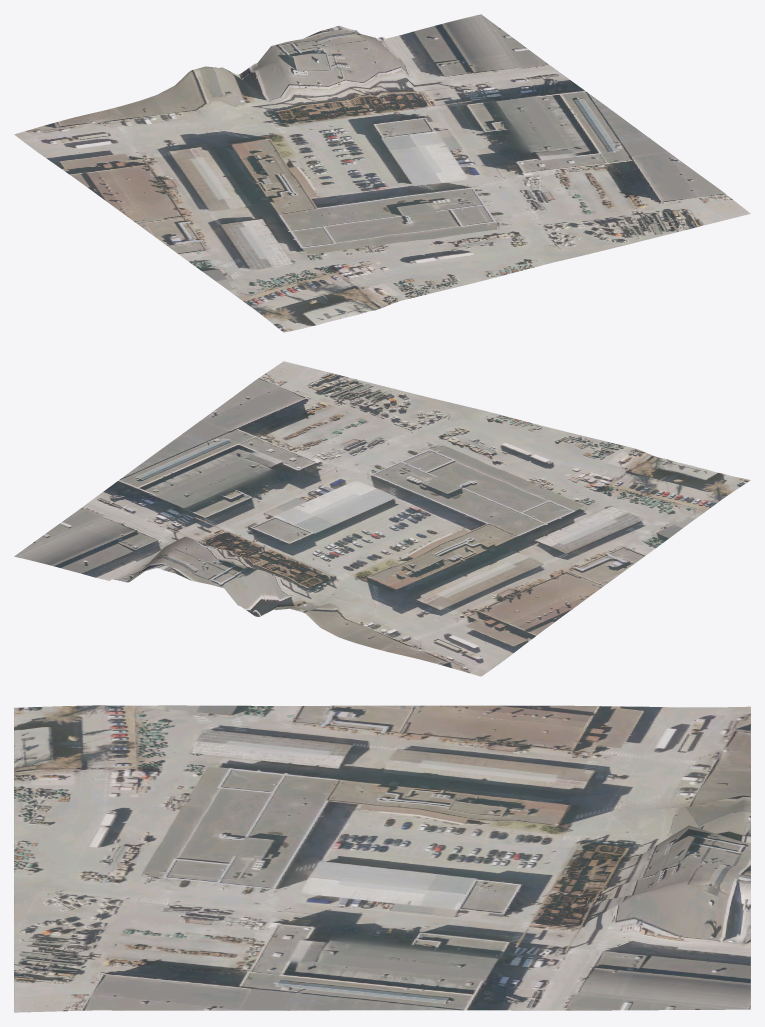
File: CM_Terrain_24487592_6819384.fbx
The picture shows the model from 3 angles, top to bottom: view 1: azimuth 30°, elevation 25°; view 2: azimuth 150°, elevation 25°; view 3: azimuth 270°, elevation 25°; orthographic projection. The views are drawn at different scales.
Visible parts, largest first — view 1: CM_Terrain_24487592_6819384_LOD0; view 2: CM_Terrain_24487592_6819384_LOD0; view 3: CM_Terrain_24487592_6819384_LOD0.
Part boxes in pixels (x1,y1,x2,y2): CM_Terrain_24487592_6819384_LOD0: [14, 14, 750, 332]; CM_Terrain_24487592_6819384_LOD0: [14, 361, 750, 676]; CM_Terrain_24487592_6819384_LOD0: [14, 705, 750, 1012].
Size of what is drawn, in the model's own units: 205 by 13.6 by 205.
